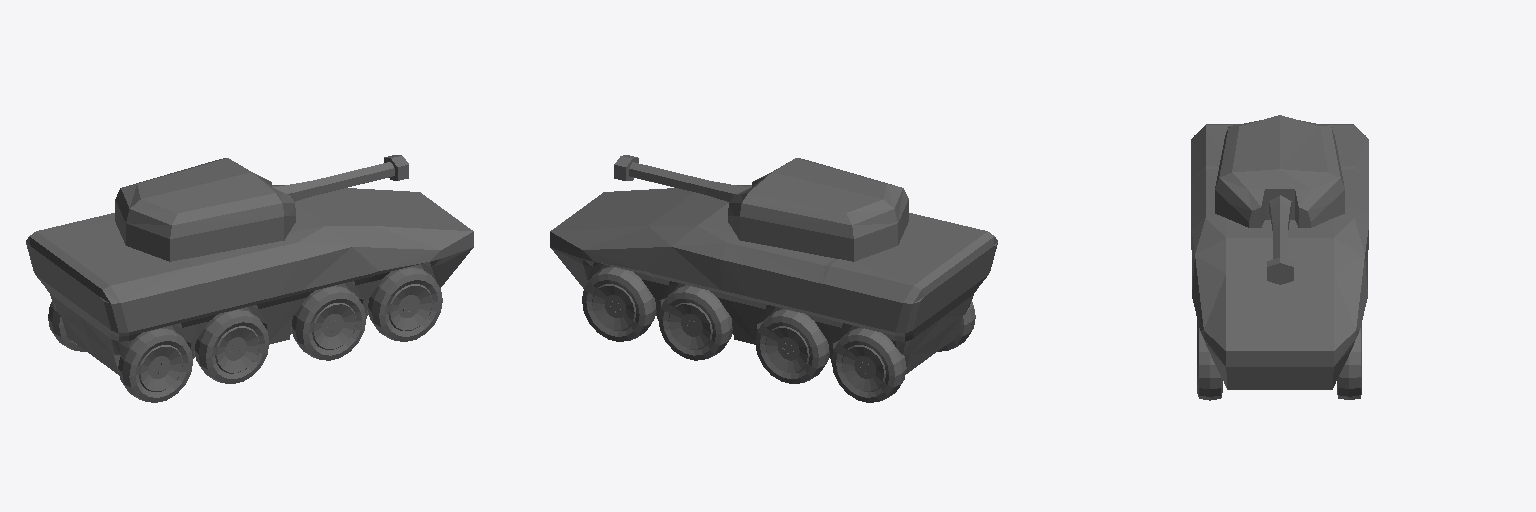
Rendered from LAV_AIO_model.obj.
3 views of the same model, side by side, from view 1: azimuth 30°, elevation 25°; view 2: azimuth 150°, elevation 25°; view 3: azimuth 270°, elevation 25° (orthographic).
Visible parts, largest first — view 1: Box001; view 2: Box001; view 3: Box001.
Boxes of the visible parts, box(x1,y1,x2,y2) form: Box001: box(26, 155, 473, 402); Box001: box(550, 155, 997, 402); Box001: box(1191, 115, 1368, 400).
Size of the model in its own units: 87.16 by 37 by 35.04.